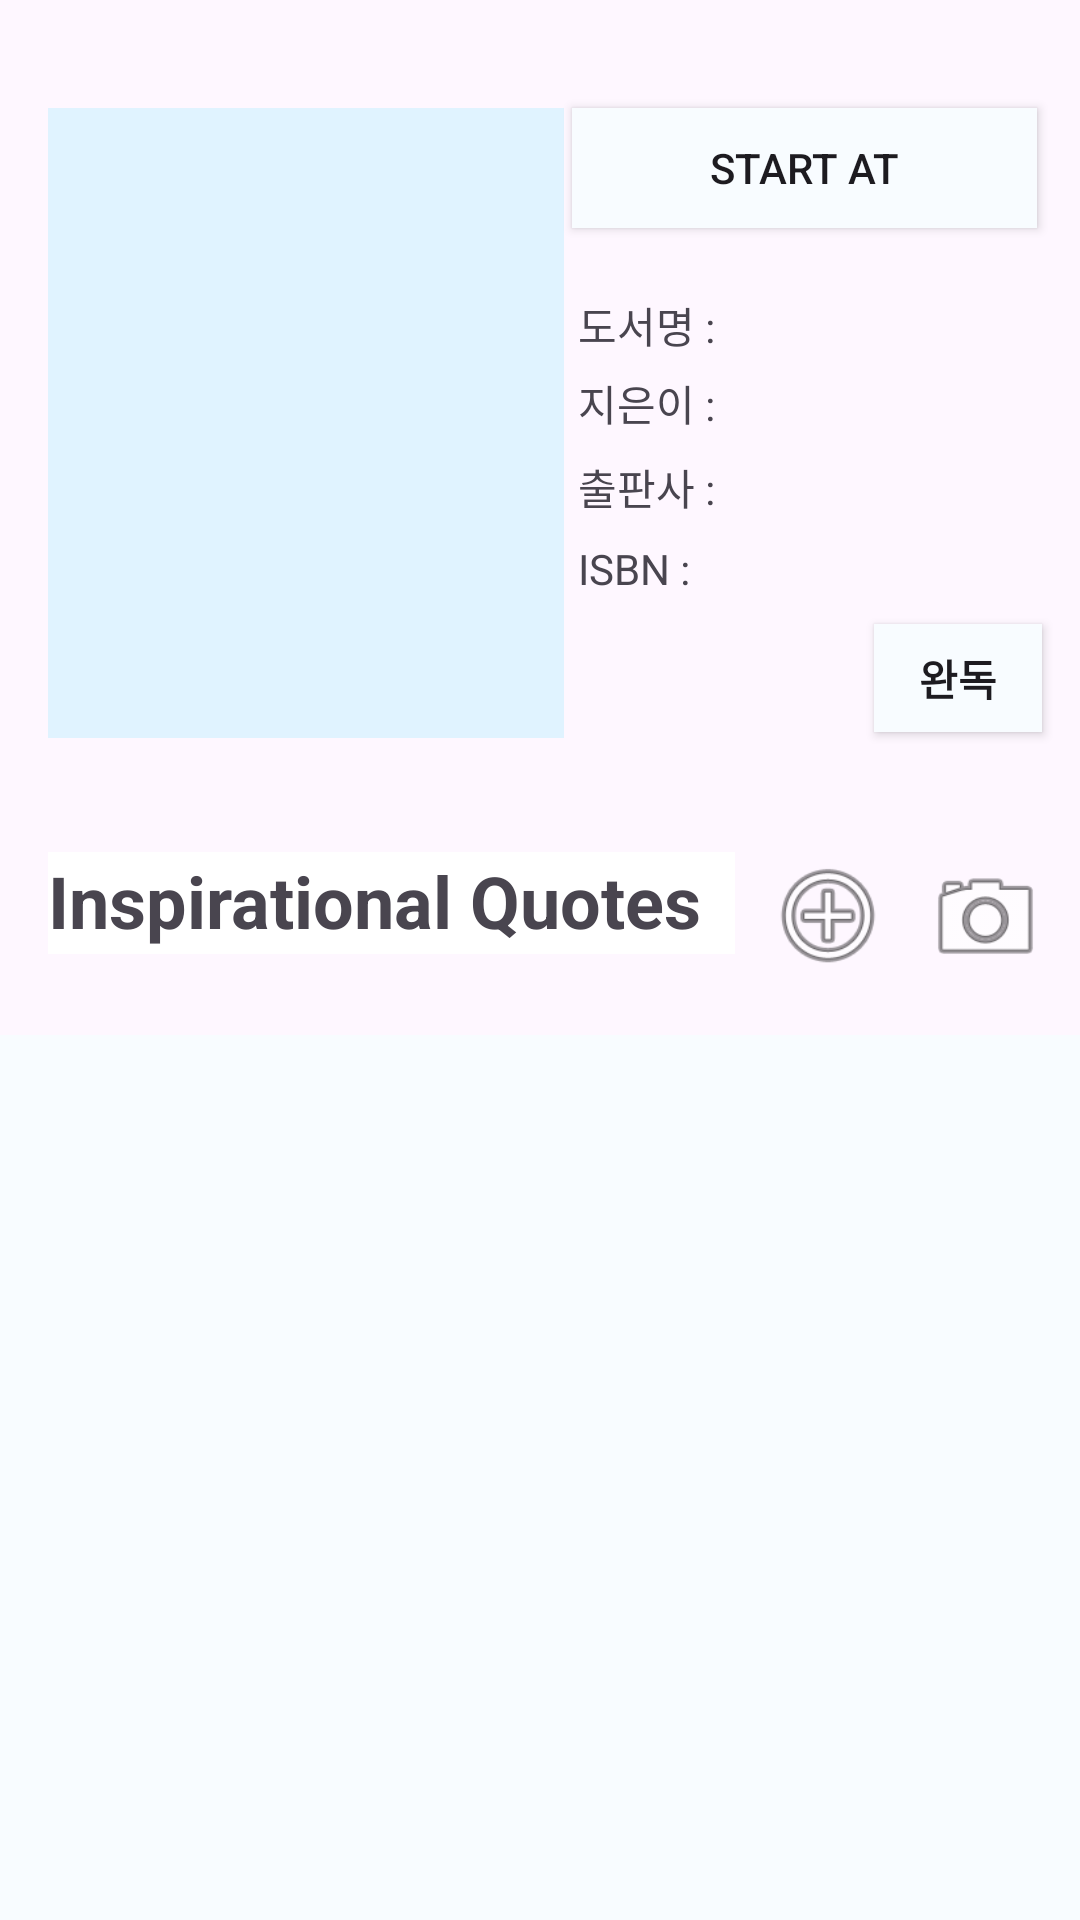

Screen size 1080×1920. Icon name, then its center in pixels as point (x, y):
add: point (828, 916)
camera: point (985, 916)
